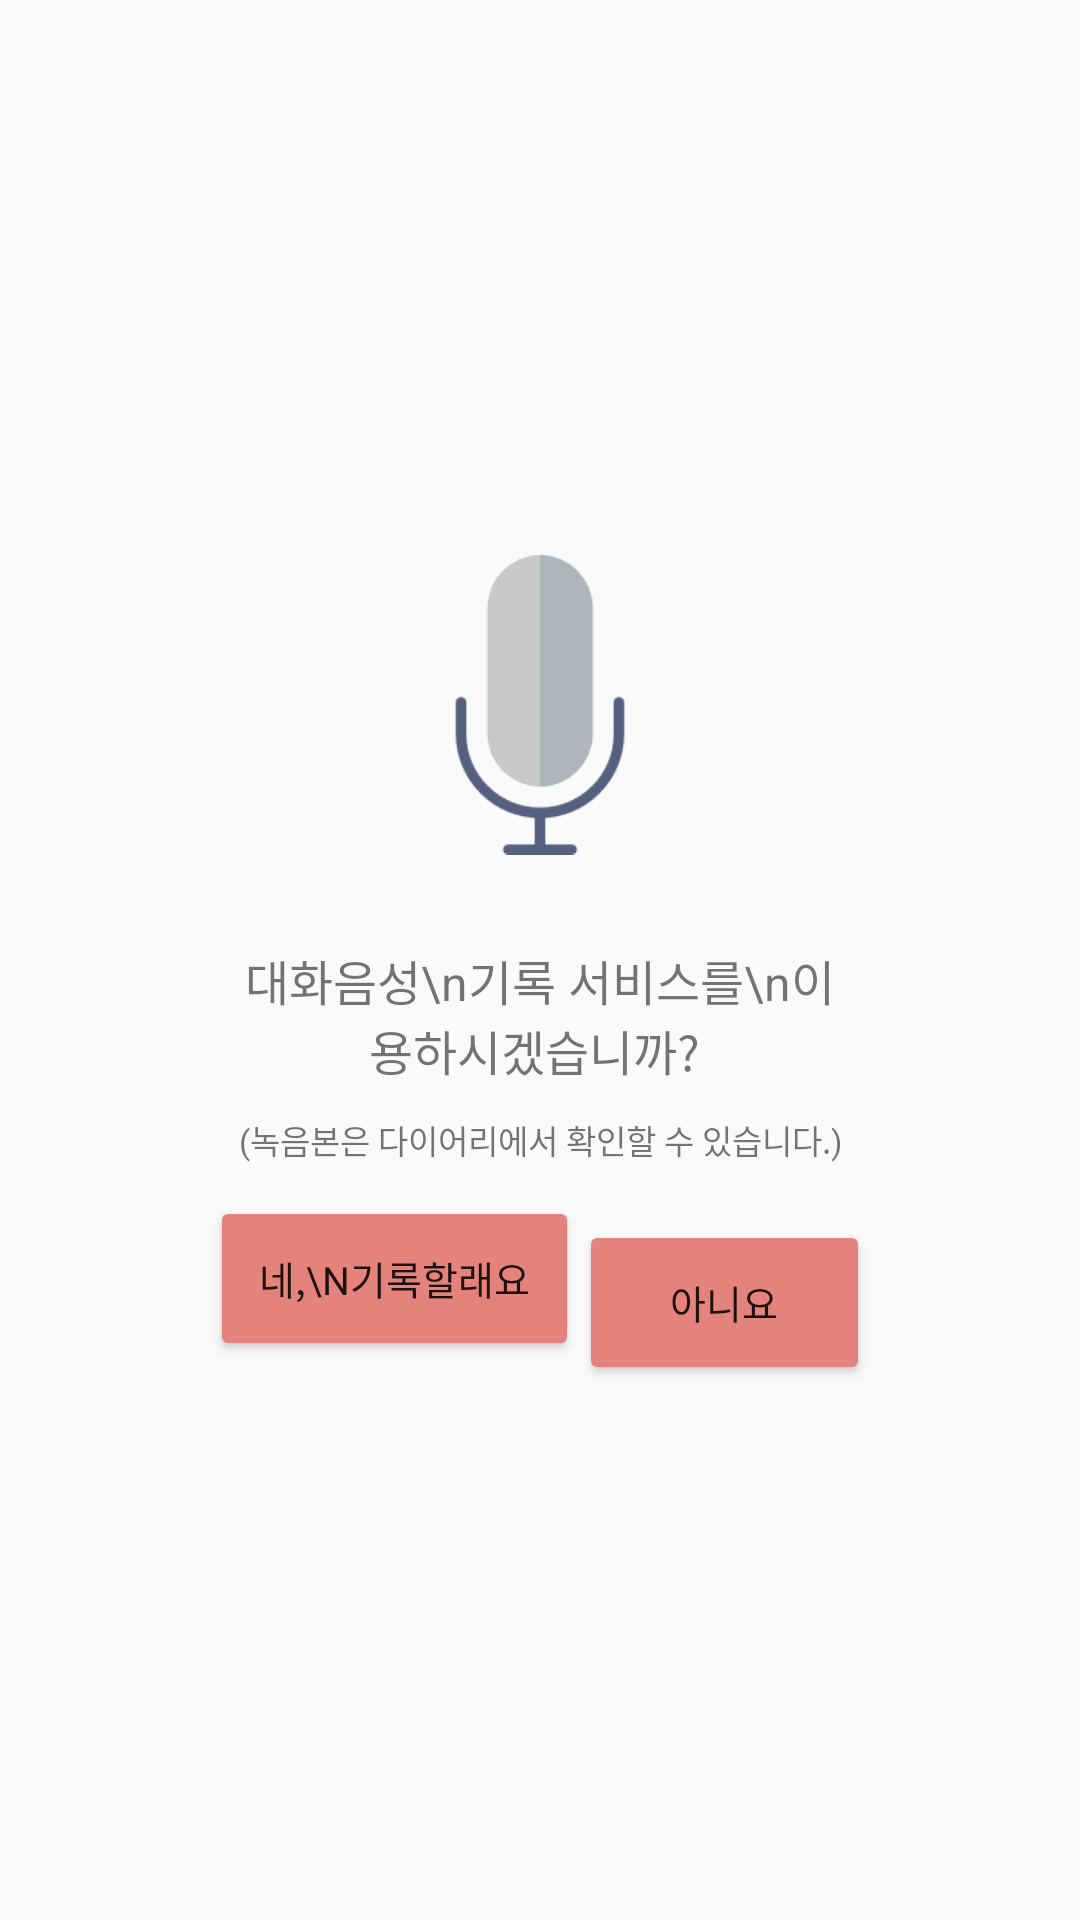

Named icons in this screenshot (1080x1920) and their bounding boxes, (x1, y1, x2, y2):
audio on: (455, 555, 625, 855)
